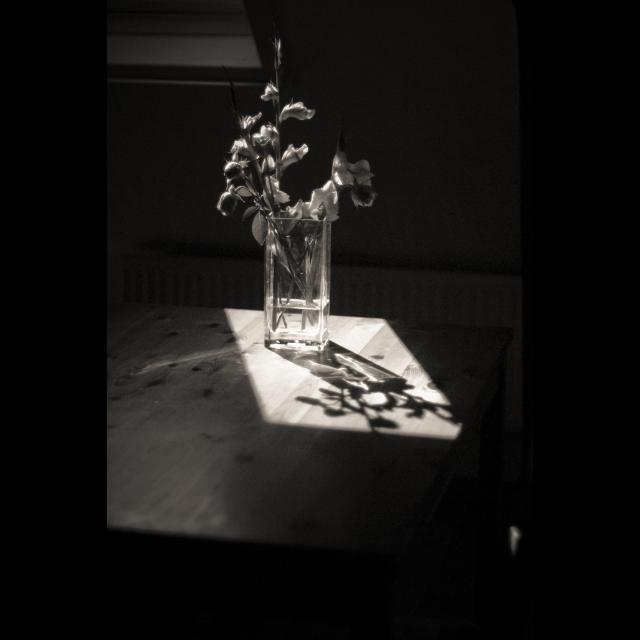Flower: (216, 81, 344, 237), (339, 142, 377, 212)
